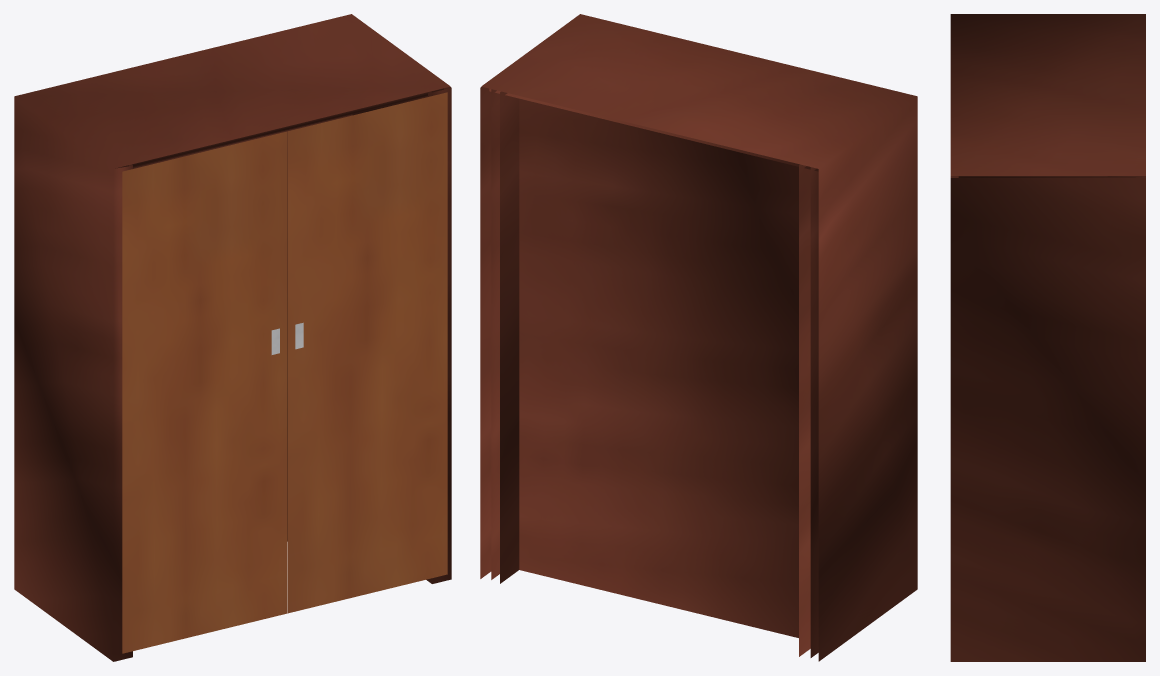
Rendered from Armario.fbx.
The picture shows the model from 3 angles, left to right: view 1: azimuth 30°, elevation 25°; view 2: azimuth 150°, elevation 25°; view 3: azimuth 270°, elevation 25°; orthographic projection.
Visible parts, largest first — view 1: Armario.001; view 2: Armario.001; view 3: Armario.001.
Boxes of the visible parts, x1,y1,x2,y2 form: Armario.001: (14,14,451,661); Armario.001: (480,14,917,661); Armario.001: (950,14,1145,661).
Bounding box in the file's own units: 151 × 211 × 78.62.
